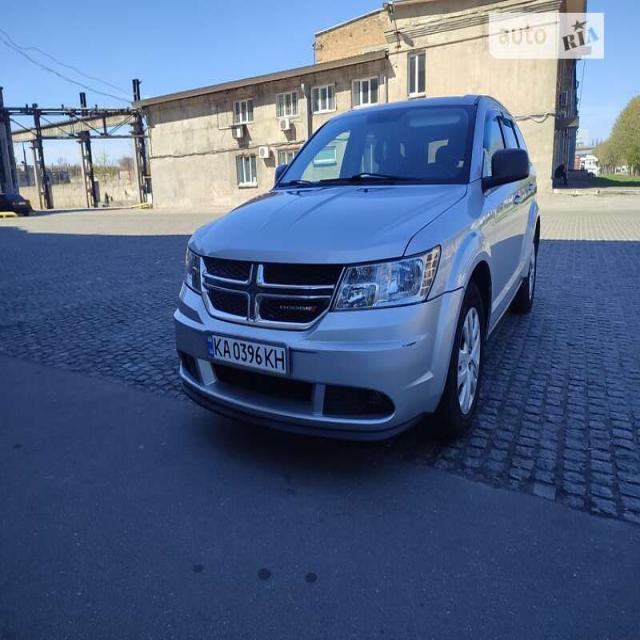plate: (206, 328, 295, 386)
